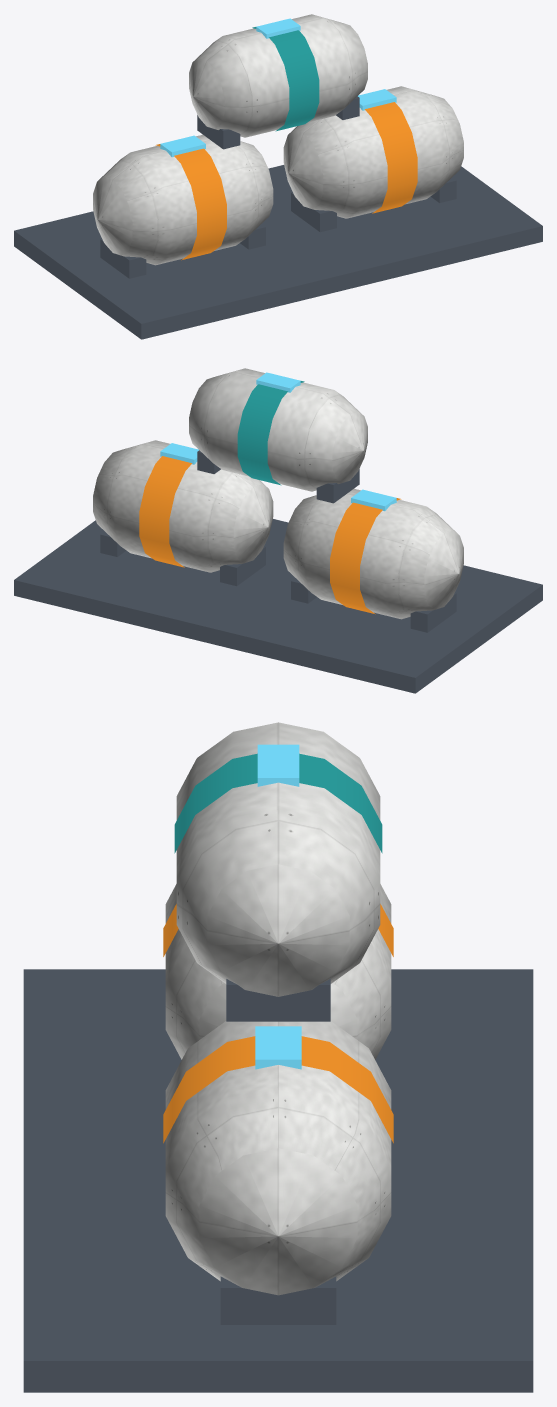
Rendered from prop_cargo_stack.glb.
3 views of the same model, one above another, from view 1: azimuth 30°, elevation 25°; view 2: azimuth 150°, elevation 25°; view 3: azimuth 270°, elevation 25° (orthographic). The views are drawn at different scales.
Parts seen in each view (by area): view 1: prop_cargo_stack_LOD0; view 2: prop_cargo_stack_LOD0; view 3: prop_cargo_stack_LOD0.
Part boxes in pixels (x1,y1,x2,y2): prop_cargo_stack_LOD0: [14, 14, 542, 339]; prop_cargo_stack_LOD0: [14, 368, 542, 693]; prop_cargo_stack_LOD0: [23, 722, 533, 1392].
Size of what is drawn, in the model's own units: 8 by 4.15 by 4.4.
Materials: 2 (2 with a texture image).
